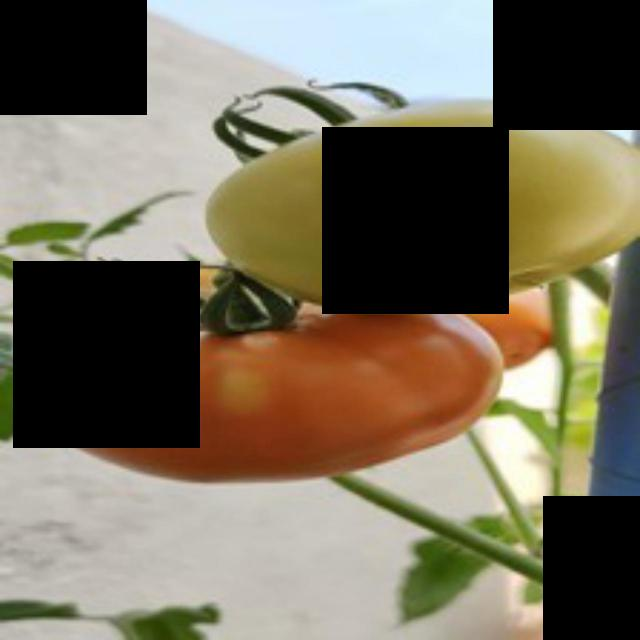tomato: (23, 273, 524, 491)
